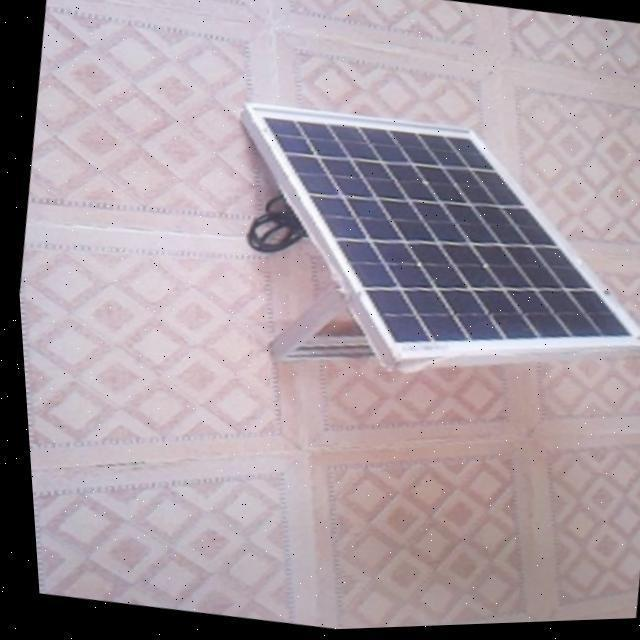Normal Solar Panel: (204, 91, 640, 416)
